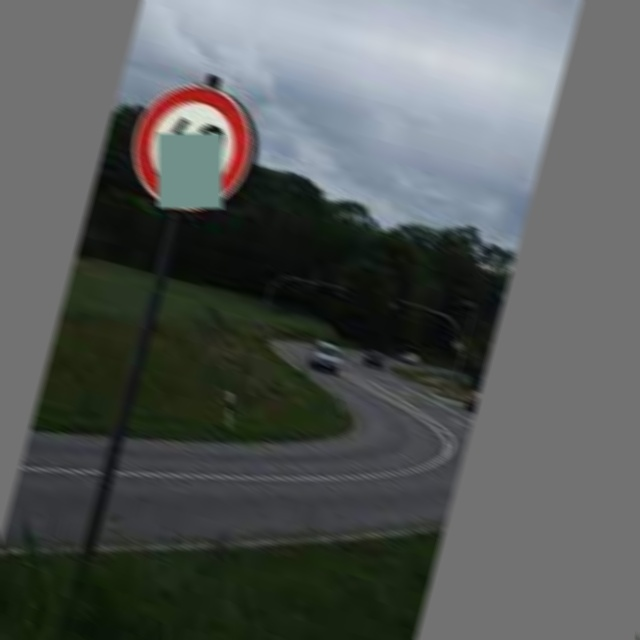Speed_Limit_60: (119, 69, 266, 222)
